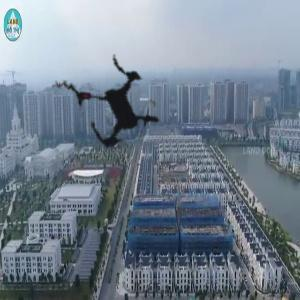drone: (26, 9, 219, 202)
